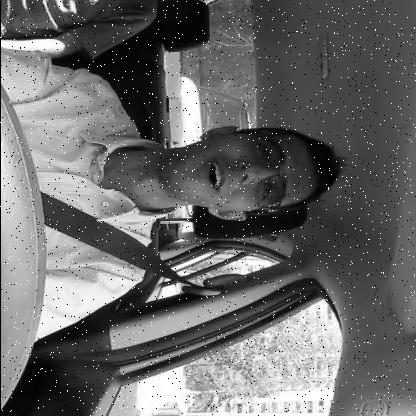seatbelt: (5, 110, 348, 300)
